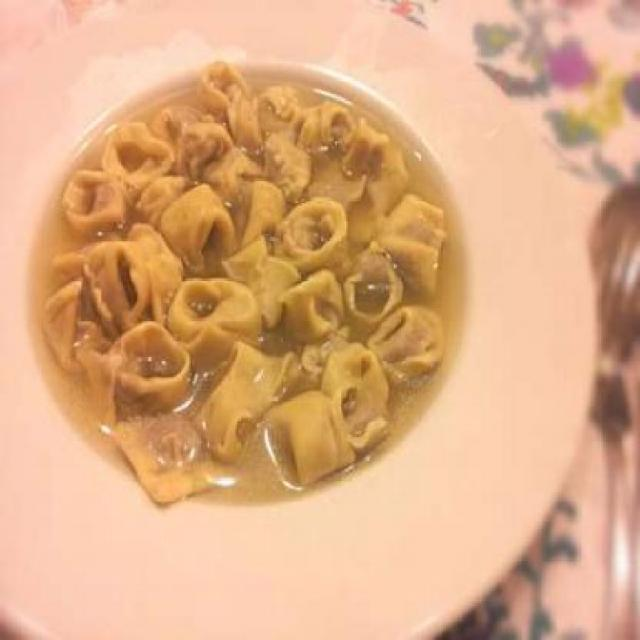Tortellini in broth: (66, 63, 458, 492)
